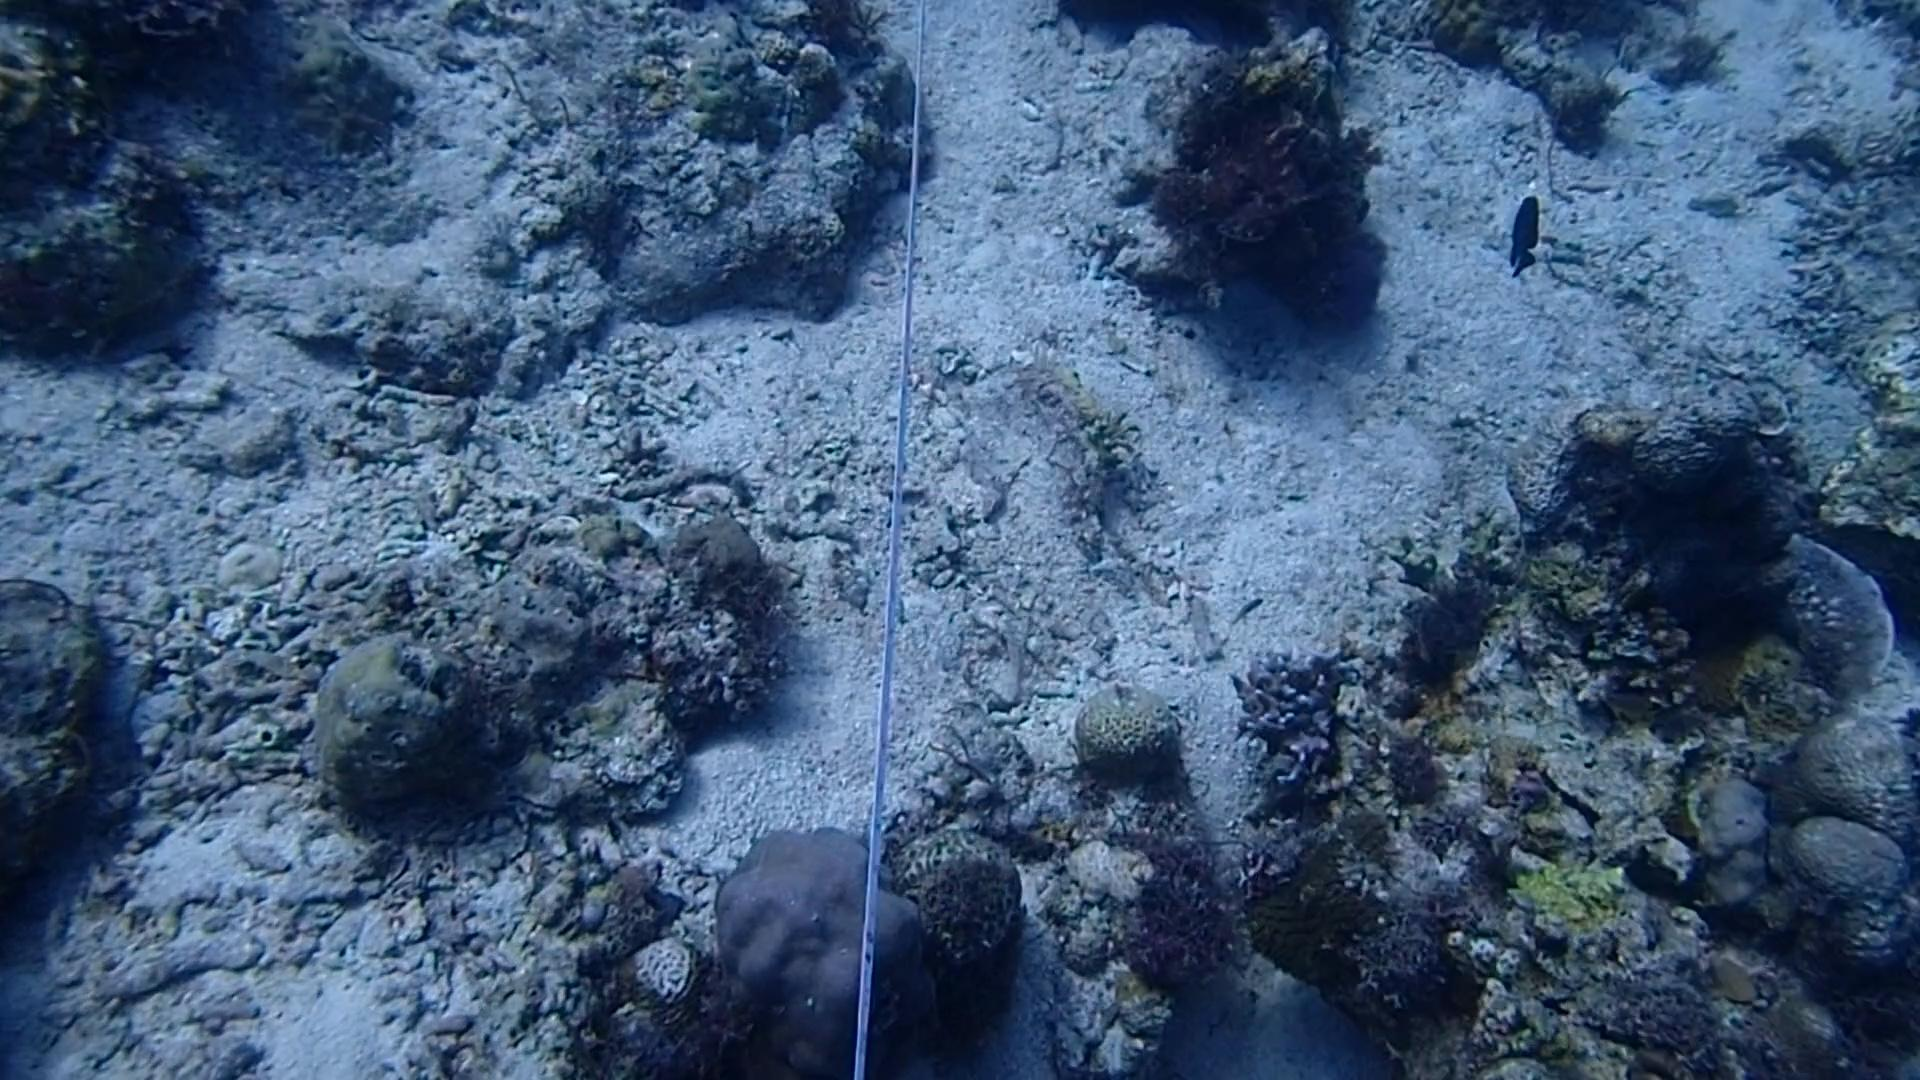Dark Fish: (1493, 185, 1549, 282)
